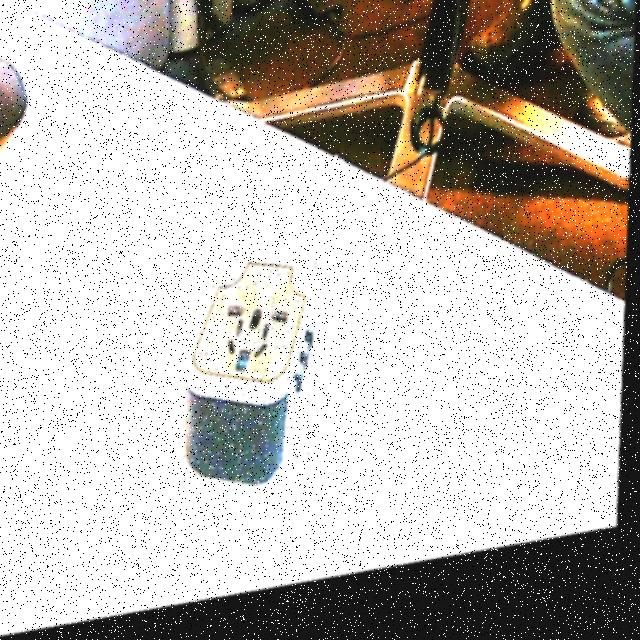adapter: (182, 254, 321, 505)
